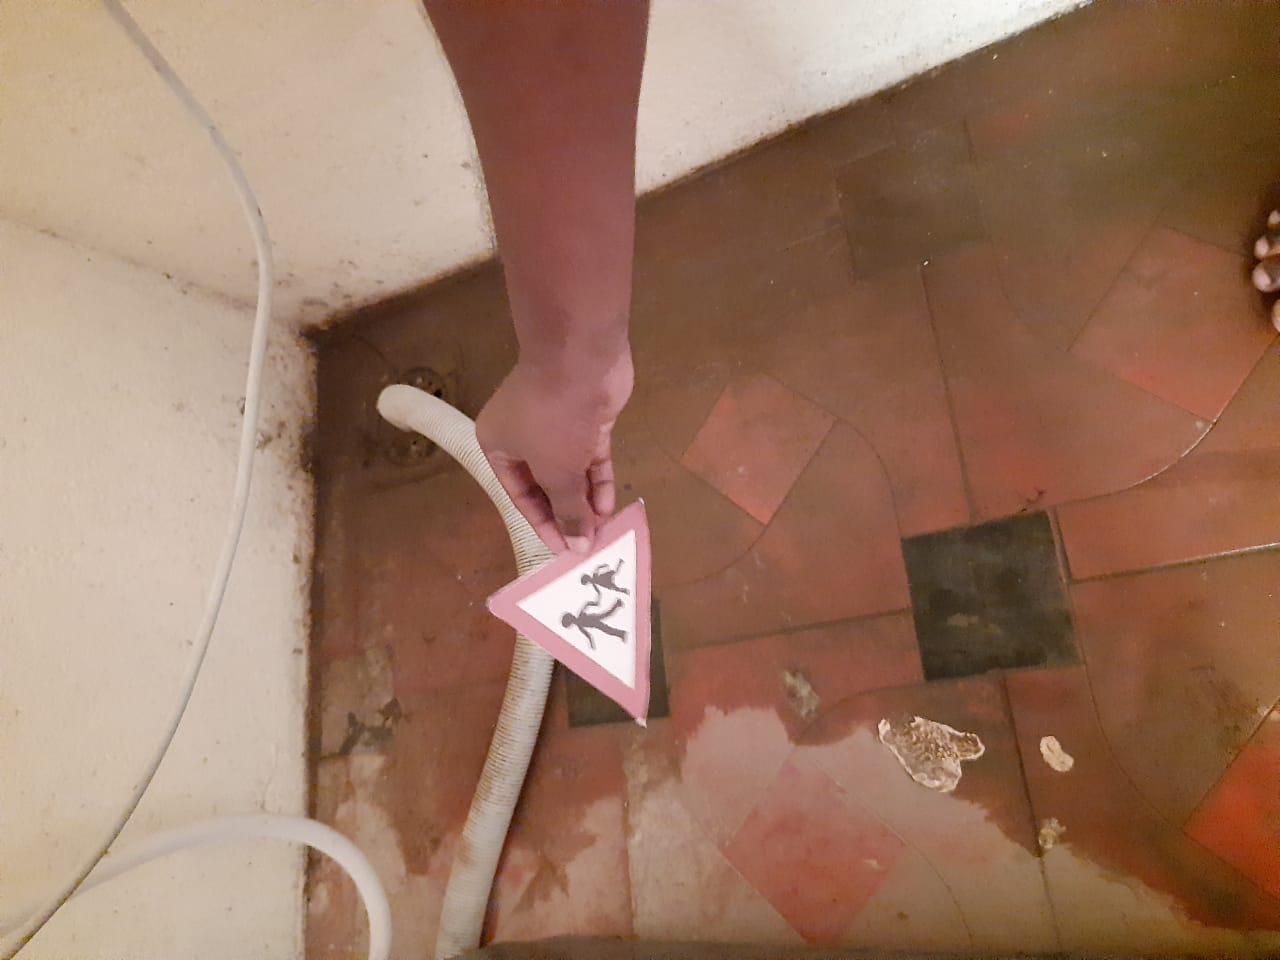SCHOOL ZONE: (486, 496, 666, 720)
